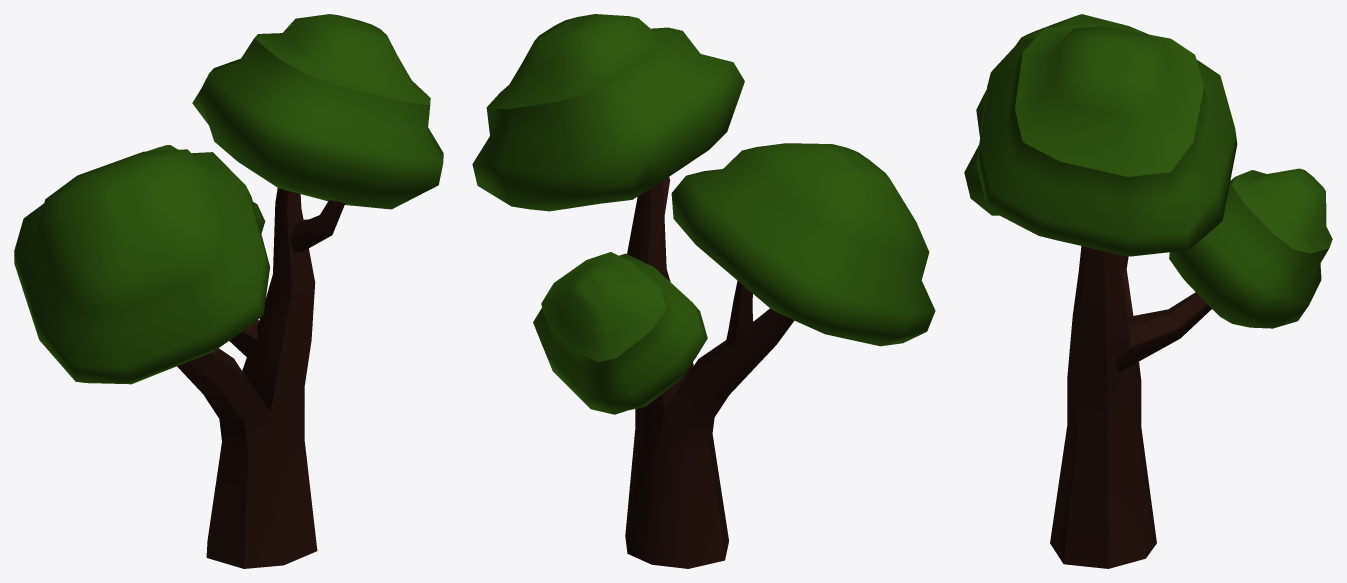
File: Tree.FBX
The picture shows the model from 3 angles, left to right: view 1: azimuth 30°, elevation 25°; view 2: azimuth 150°, elevation 25°; view 3: azimuth 270°, elevation 25°; orthographic projection. The views are drawn at different scales.
Visible parts, largest first — view 1: Box034; view 2: Box034; view 3: Box034.
Part boxes in pixels (bbox=[...]): Box034: bbox=[14, 14, 443, 568]; Box034: bbox=[472, 14, 935, 568]; Box034: bbox=[964, 14, 1332, 568].
Bounding box in the file's own units: 3.2 × 3.86 × 2.37.
